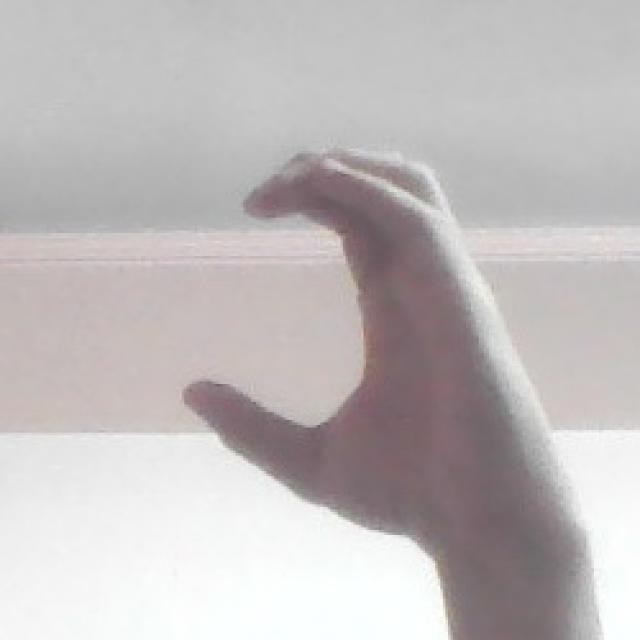Alphabet-C: (187, 154, 602, 640)
